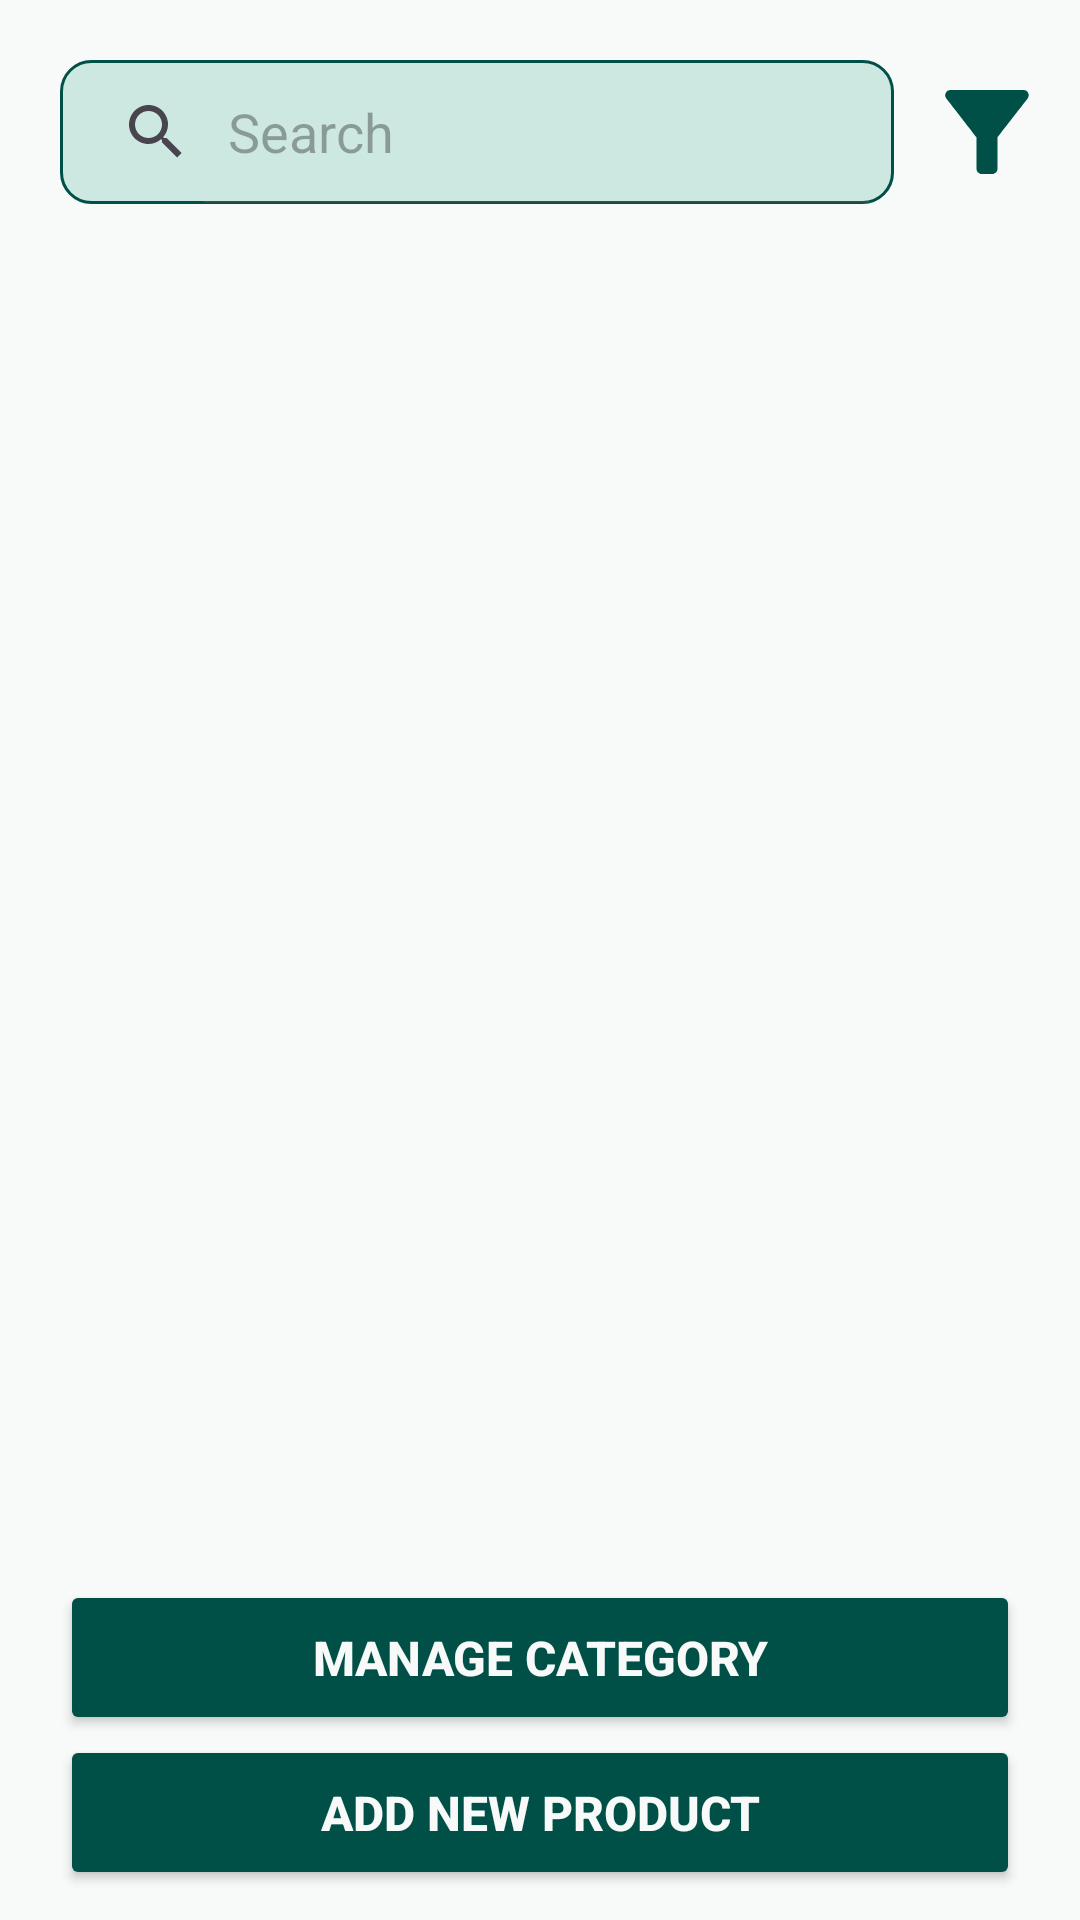

Screen size 1080px x 1920px. Icon name, then its center in pixels as (x=x, y=y):
filter: (x=987, y=132)
